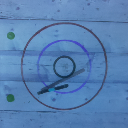Axe Tip: (37, 90, 48, 92)
